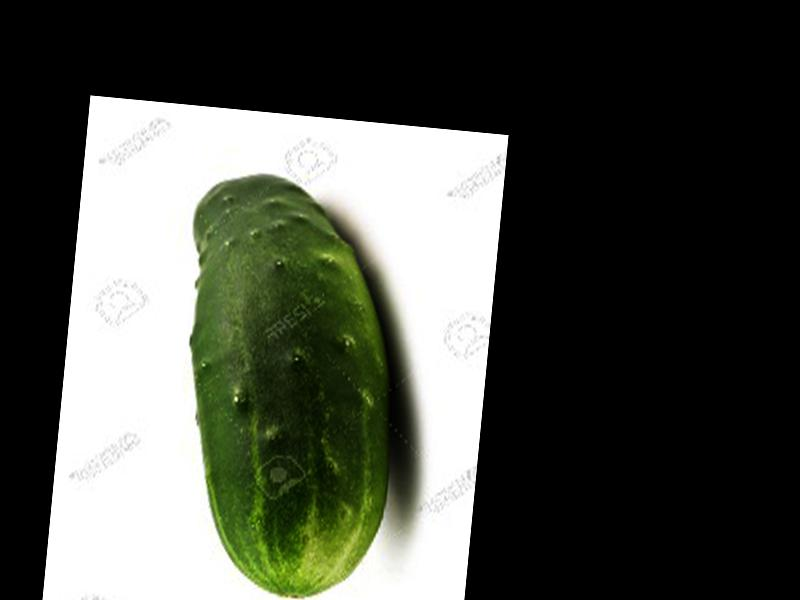Cucumber: (159, 168, 418, 600)
